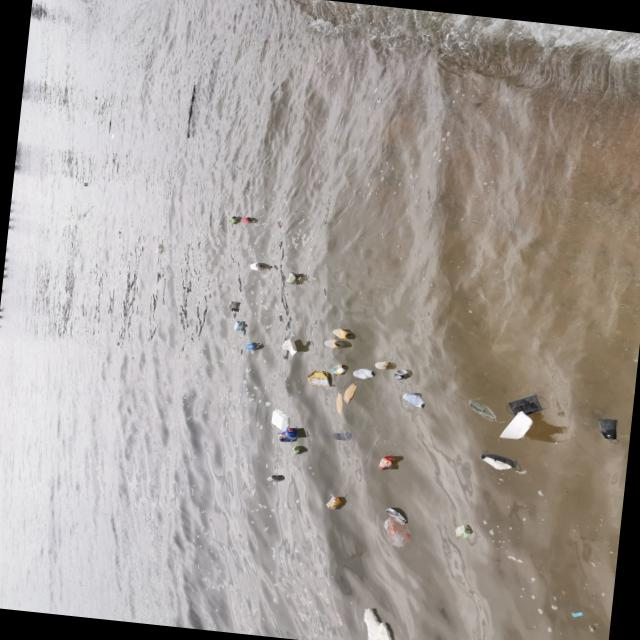can: (403, 392, 428, 408), (385, 507, 410, 523), (353, 367, 376, 381), (330, 363, 348, 377), (333, 328, 354, 340), (324, 338, 345, 349), (395, 368, 409, 380), (287, 272, 300, 284), (249, 262, 264, 271), (245, 341, 260, 350), (234, 320, 245, 331), (241, 216, 254, 224), (267, 474, 280, 482), (229, 216, 240, 225)
foam: (360, 607, 399, 640), (500, 409, 535, 442), (271, 409, 291, 432), (280, 338, 300, 358)
